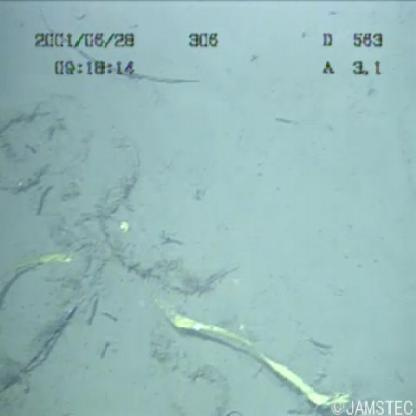Rác: (1, 89, 369, 411)
